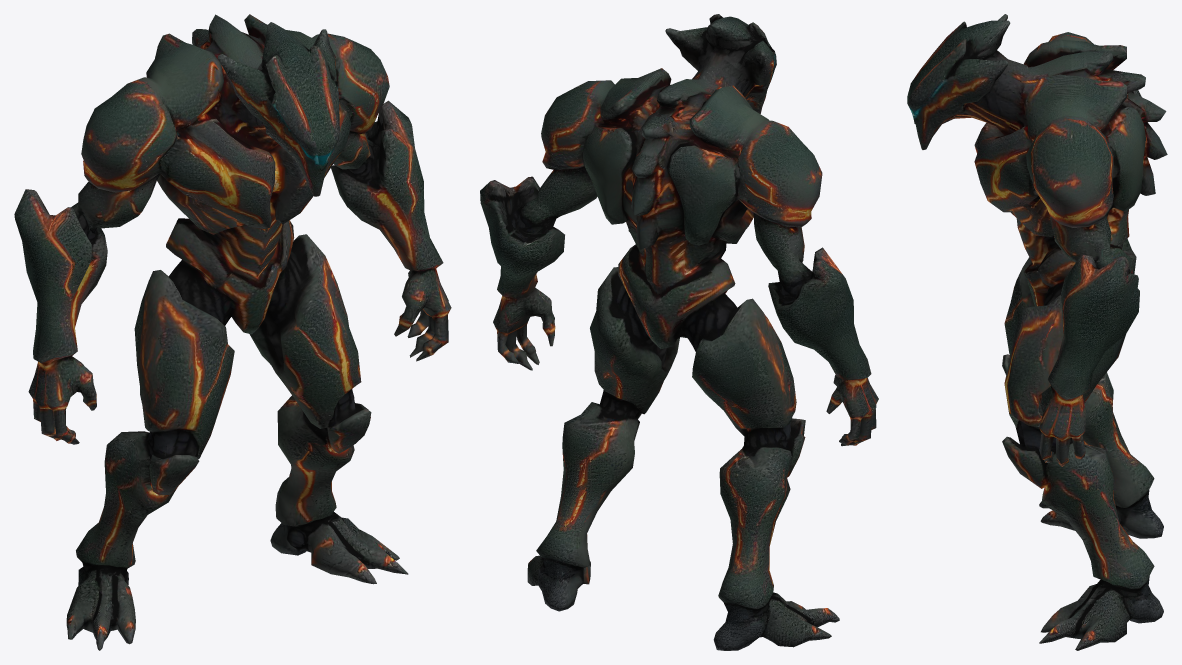
3 renders of one model, left to right at view 1: azimuth 30°, elevation 25°; view 2: azimuth 150°, elevation 25°; view 3: azimuth 270°, elevation 25°, orthographic. The views are drawn at different scales.
Parts seen in each view (by area): view 1: tripo_node_825fd061-2904-4892-819a-8a78c16561bd; view 2: tripo_node_825fd061-2904-4892-819a-8a78c16561bd; view 3: tripo_node_825fd061-2904-4892-819a-8a78c16561bd.
Part boxes in pixels (<box>): tripo_node_825fd061-2904-4892-819a-8a78c16561bd: <box>14,14,451,650</box>; tripo_node_825fd061-2904-4892-819a-8a78c16561bd: <box>480,14,878,650</box>; tripo_node_825fd061-2904-4892-819a-8a78c16561bd: <box>907,14,1167,650</box>.
Bounding box in the file's own units: 0.7129 × 0.998 × 0.4238.
1 material, 1 textured.
